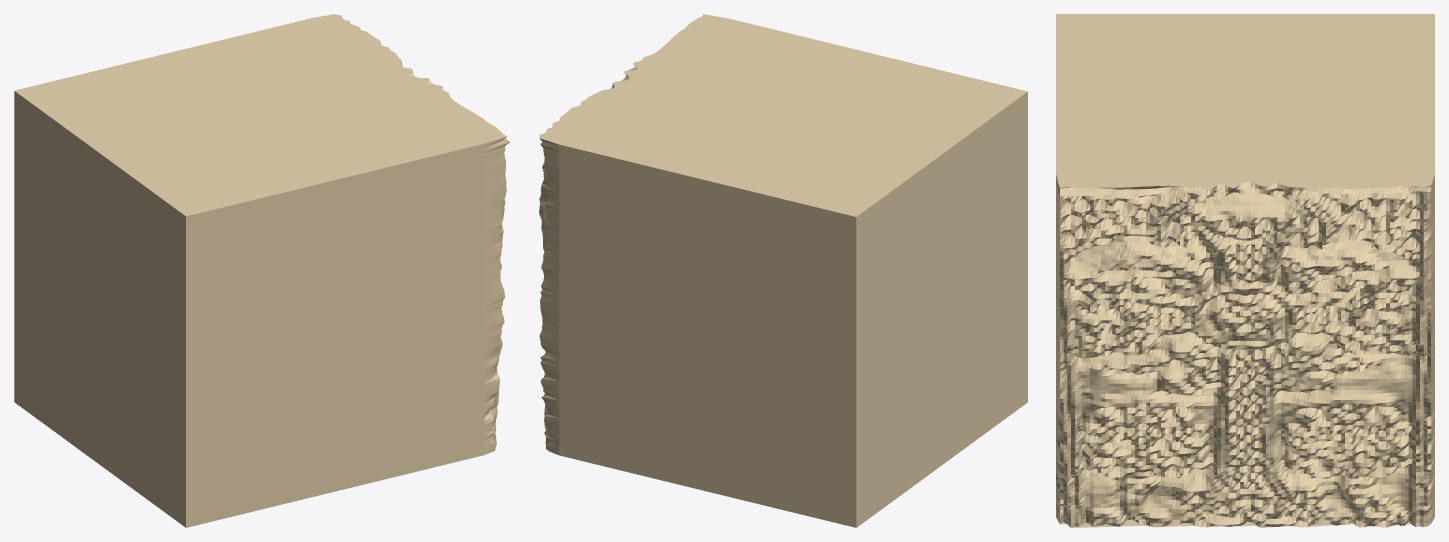
The model's file is cross7.png.obj.
3 views of the same model, side by side, from view 1: azimuth 30°, elevation 25°; view 2: azimuth 150°, elevation 25°; view 3: azimuth 270°, elevation 25° (orthographic). The views are drawn at different scales.
Visible parts, largest first — view 1: Cube; view 2: Cube; view 3: Cube.
Boxes of the visible parts, x1=… form: Cube: x1=14, y1=14, x2=510, y2=527; Cube: x1=539, y1=14, x2=1027, y2=527; Cube: x1=1056, y1=14, x2=1434, y2=527.
Bounding box in the file's own units: 1.1 × 1 × 1.
